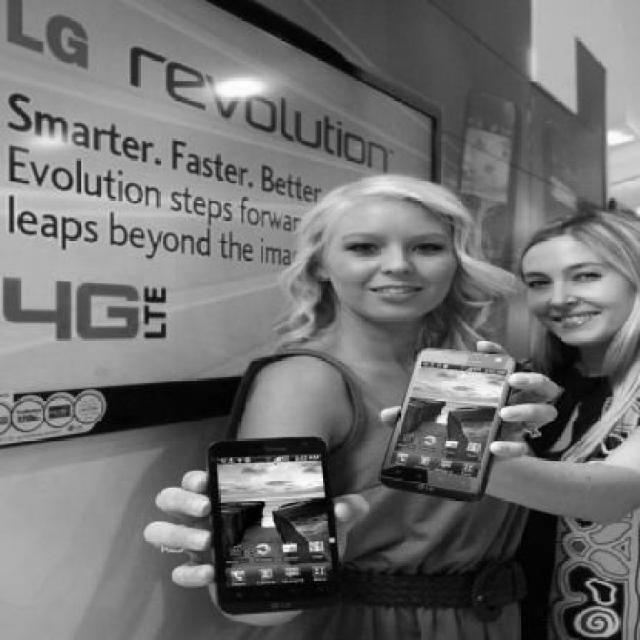fake: (208, 434, 346, 620), (378, 350, 518, 504), (464, 92, 516, 268)
